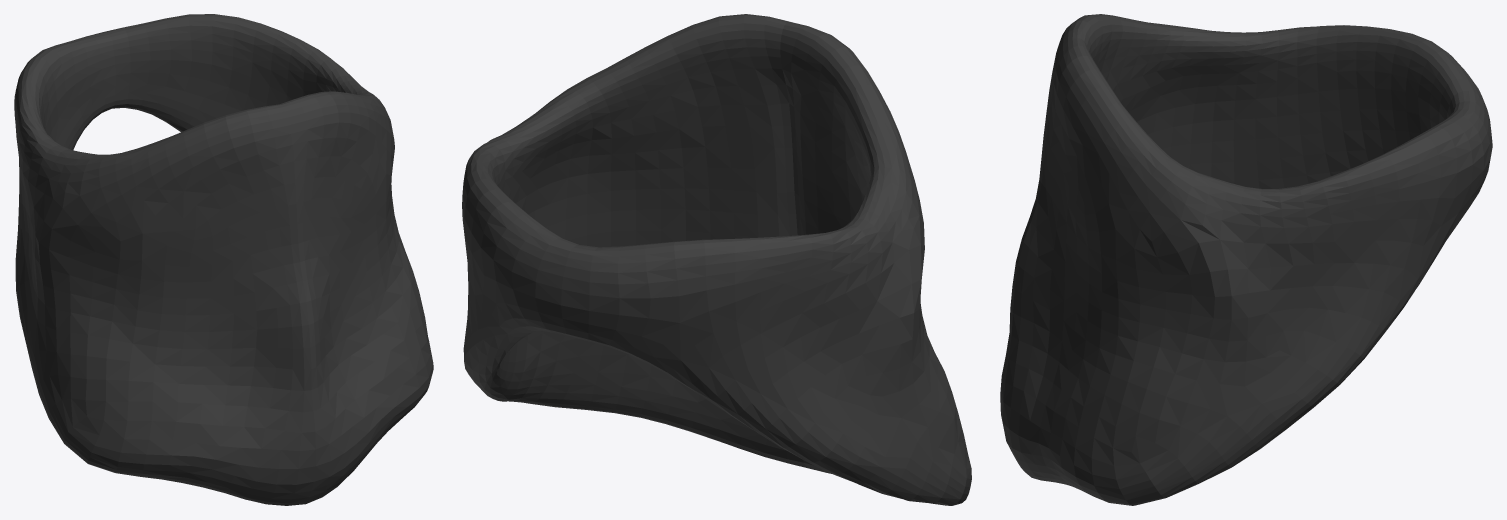
File: cart_cricoid_LO.glb
The picture shows the model from 3 angles, left to right: view 1: azimuth 30°, elevation 25°; view 2: azimuth 150°, elevation 25°; view 3: azimuth 270°, elevation 25°; orthographic projection. The views are drawn at different scales.
Visible parts, largest first — view 1: cart_cricoid_LO; view 2: cart_cricoid_LO; view 3: cart_cricoid_LO.
Part boxes in pixels (x1,y1,x2,y2): cart_cricoid_LO: (14, 14, 433, 505); cart_cricoid_LO: (462, 14, 971, 505); cart_cricoid_LO: (1000, 14, 1492, 505).
Size of the model in its own units: 0.2858 by 0.2874 by 0.2996.
1 material, 1 textured.
